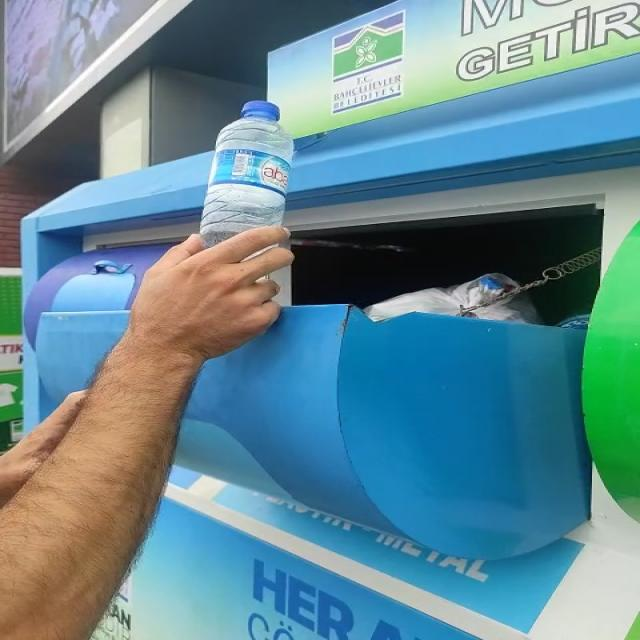plastic: (211, 100, 293, 179), (200, 182, 285, 244)
